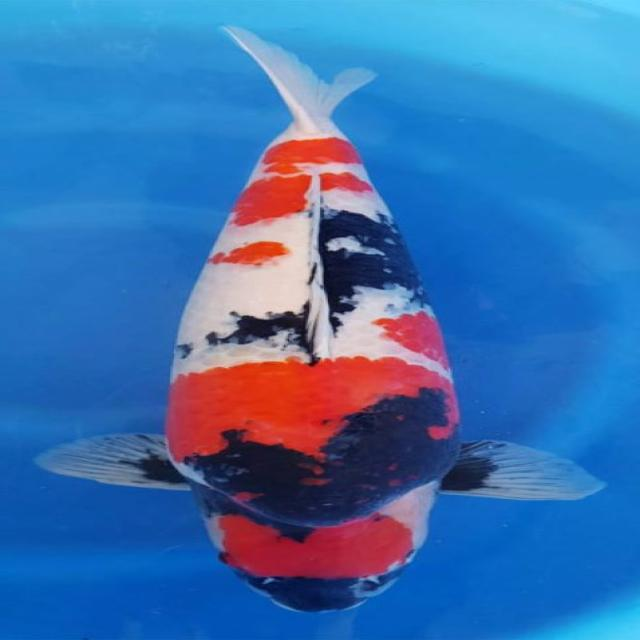Showa: (34, 23, 605, 614)
